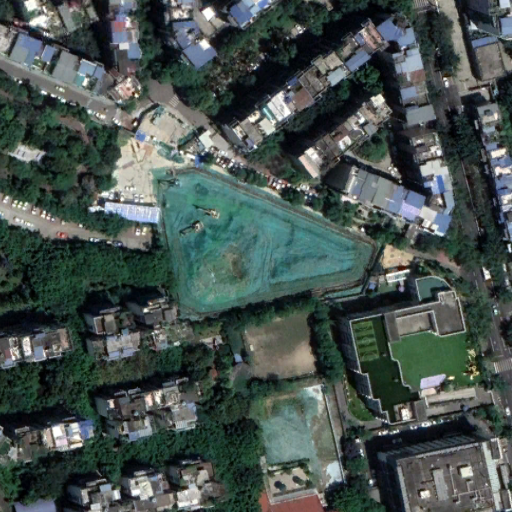cw: (152, 165, 374, 321)
